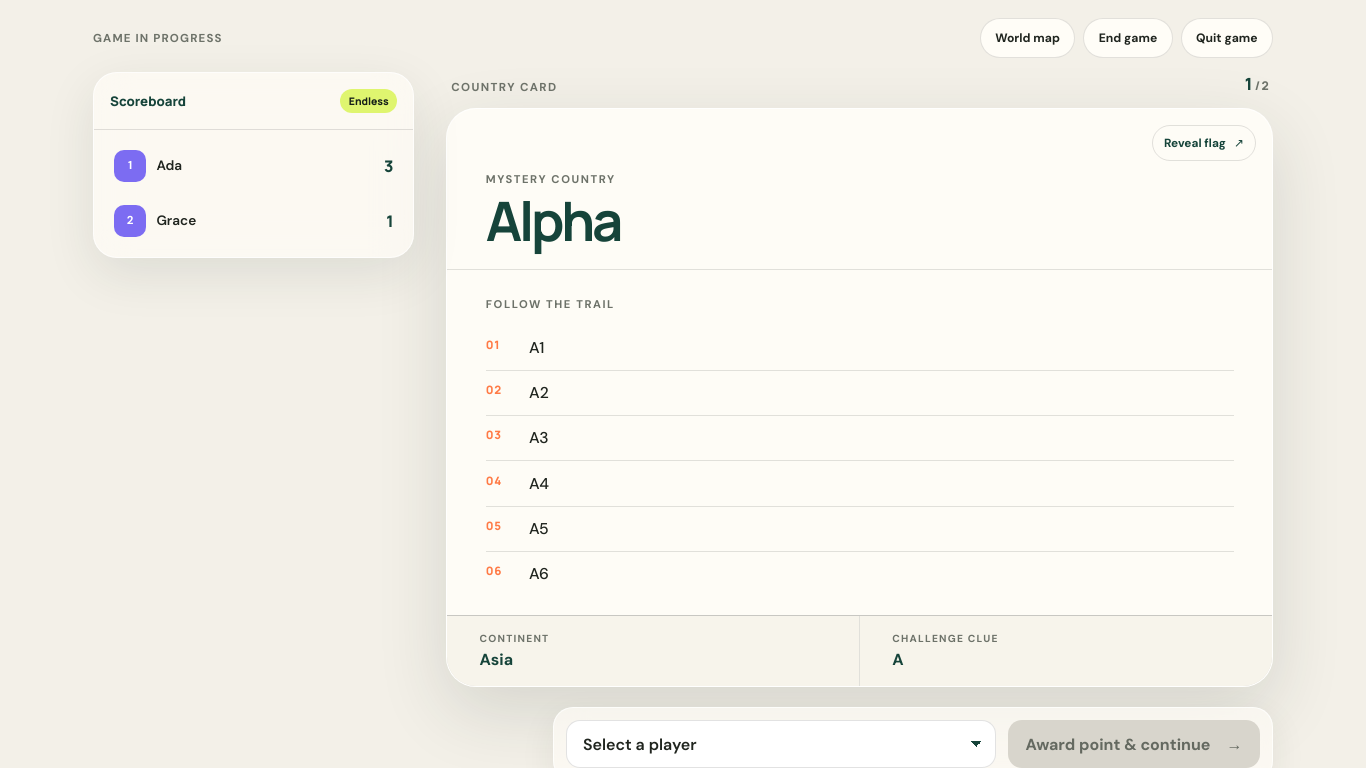
declares one highest scorer when an Endless game ends
Click the button "End game" at (1128, 38), box [1083, 18, 1173, 58]
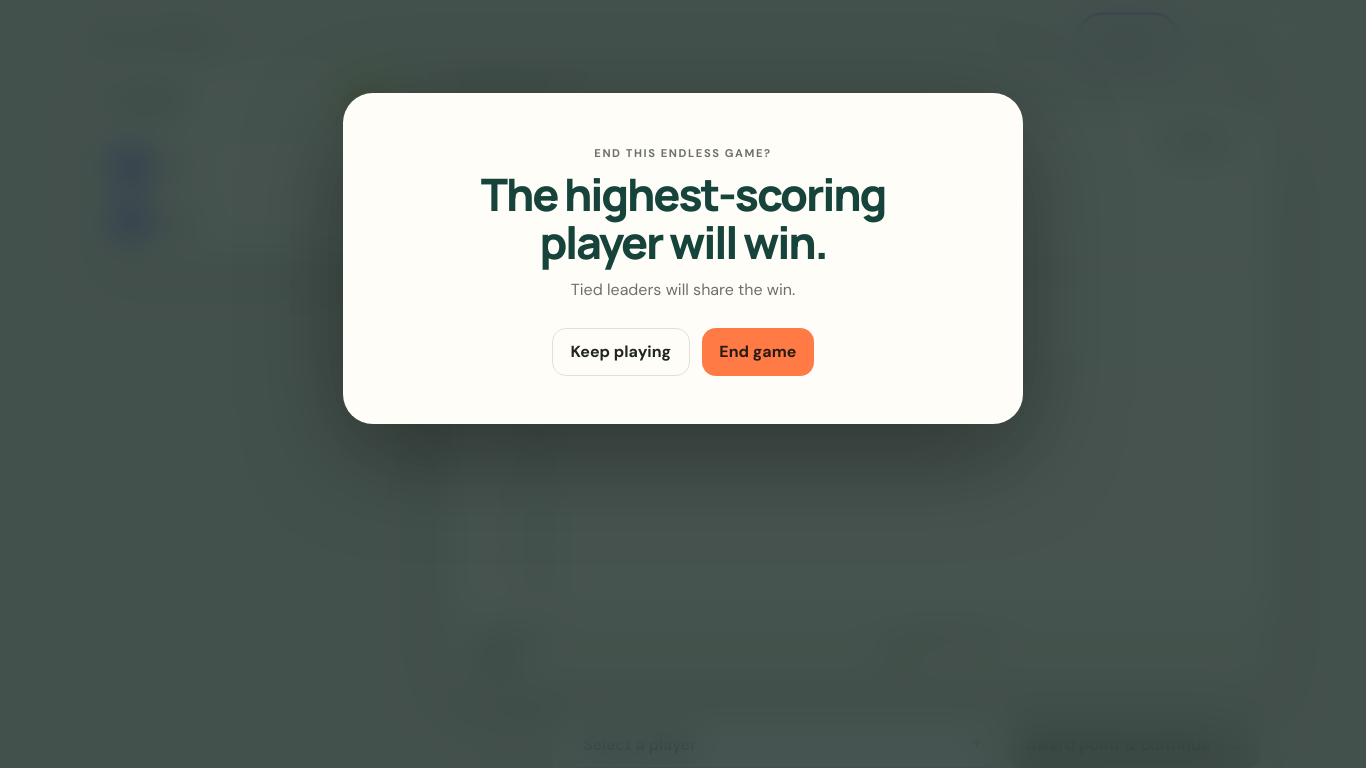
Click the button "End game" at (758, 352), box [702, 328, 814, 376]
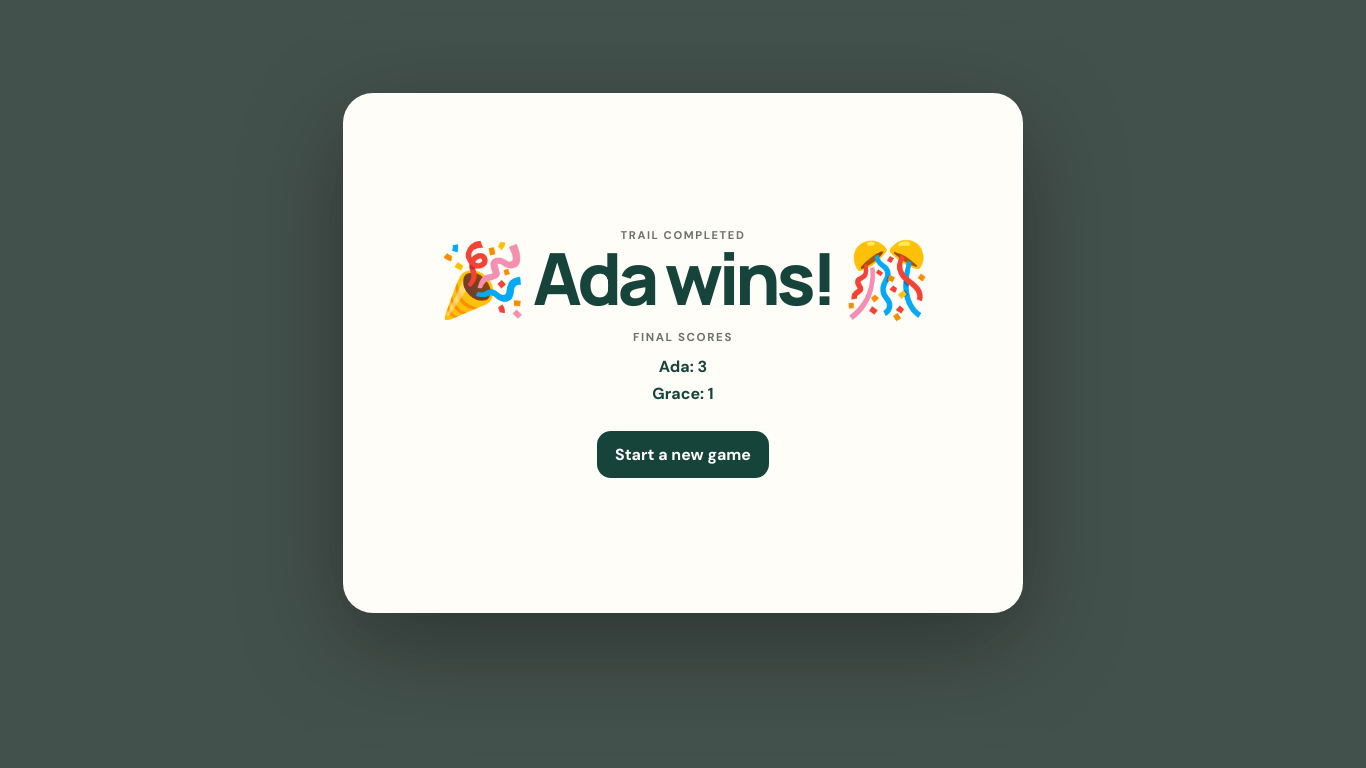
Expected: the heading "🎉 Ada wins! 🎊" is shown, [438, 242, 928, 314]
